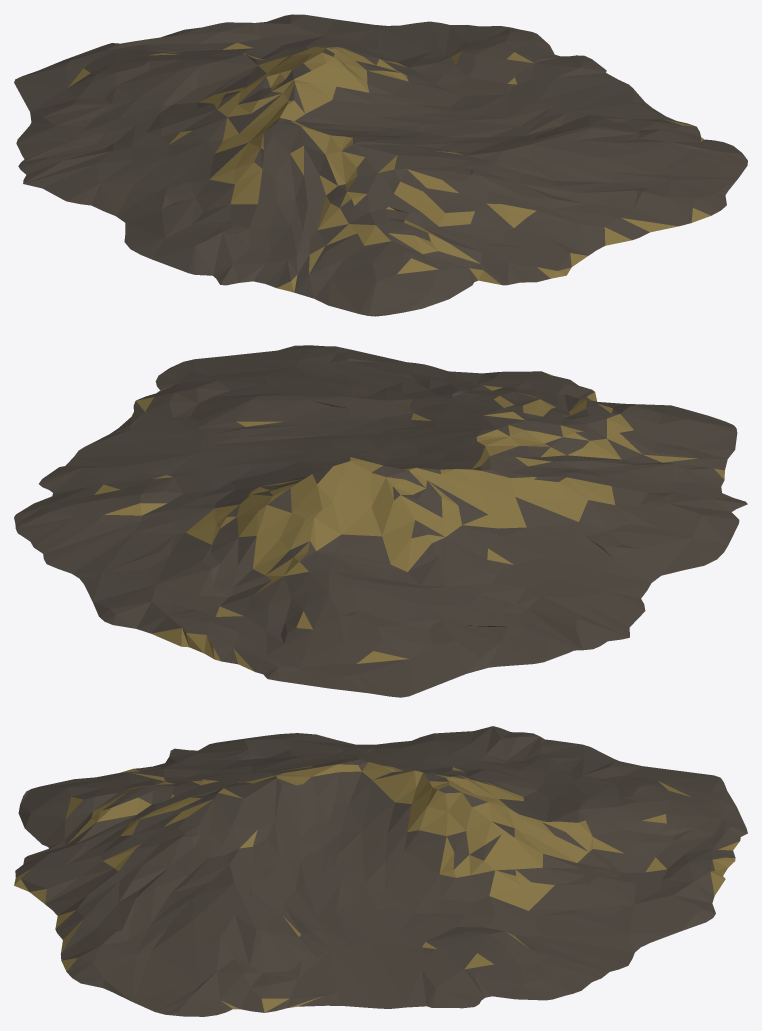
The model's file is bog_mountain.gltf.
3 renders of one model, top to bottom at view 1: azimuth 30°, elevation 25°; view 2: azimuth 150°, elevation 25°; view 3: azimuth 270°, elevation 25°, orthographic. The views are drawn at different scales.
Visible parts, largest first — view 1: bog_mountain; view 2: bog_mountain; view 3: bog_mountain.
Part boxes in pixels (x1,y1,x2,y2): bog_mountain: (14,14,747,316); bog_mountain: (14,345,747,697); bog_mountain: (14,726,747,1016).
Bounding box in the file's own units: 35.44 × 4.68 × 37.8.
1 material, 1 textured.
